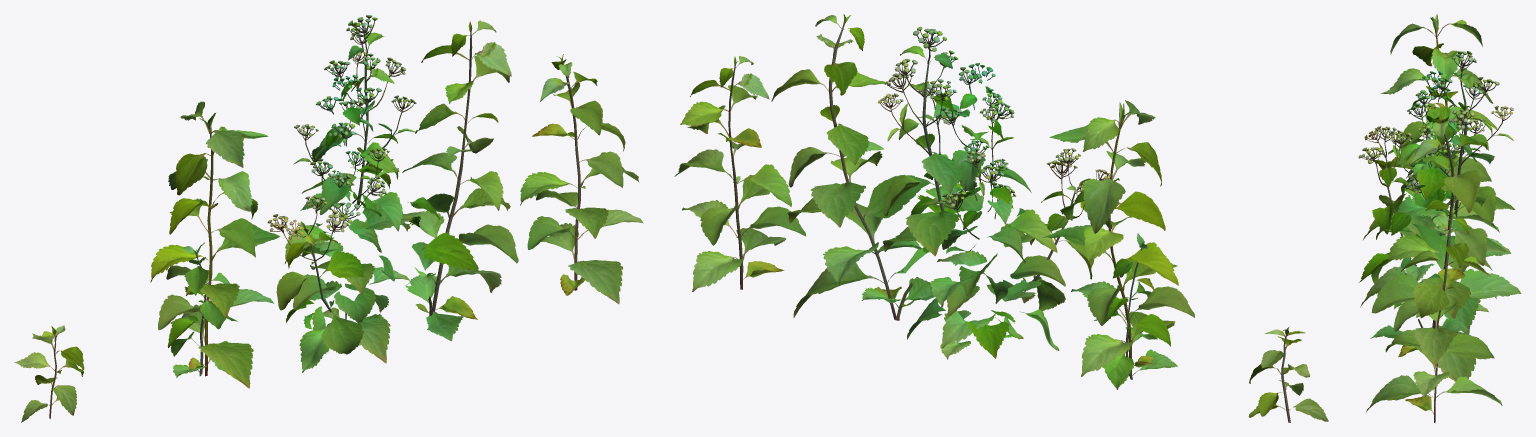
The model's file is shrub_01.gltf.
3 renders of one model, left to right at view 1: azimuth 30°, elevation 25°; view 2: azimuth 150°, elevation 25°; view 3: azimuth 270°, elevation 25°, orthographic. The views are drawn at different scales.
Parts seen in each view (by area): view 1: shrub_01_a_e, shrub_01_a_d, shrub_01_a_b, shrub_01_a_a, shrub_01_a_c; view 2: shrub_01_a_e, shrub_01_a_d, shrub_01_a_b, shrub_01_a_a, shrub_01_a_c; view 3: shrub_01_a_e, shrub_01_a_d, shrub_01_a_b, shrub_01_a_a, shrub_01_a_c.
Boxes of the visible parts, box(x1,y1,x2,y2) form: shrub_01_a_e: box(150, 20, 518, 388); shrub_01_a_d: box(14, 54, 643, 422); shrub_01_a_b: box(267, 15, 416, 372); shrub_01_a_a: box(285, 75, 414, 363); shrub_01_a_c: box(296, 151, 390, 330); shrub_01_a_e: box(771, 14, 1194, 376); shrub_01_a_d: box(674, 56, 1328, 422); shrub_01_a_b: box(878, 26, 1109, 358); shrub_01_a_a: box(922, 63, 1065, 348); shrub_01_a_c: box(938, 139, 1025, 359); shrub_01_a_e: box(1359, 14, 1521, 381); shrub_01_a_d: box(1366, 103, 1502, 422); shrub_01_a_b: box(1358, 51, 1515, 334); shrub_01_a_a: box(1360, 71, 1496, 307); shrub_01_a_c: box(1405, 143, 1492, 317).
Bounding box in the file's own units: 0.8314 × 0.3951 × 0.2077.
1 material, 1 textured.
